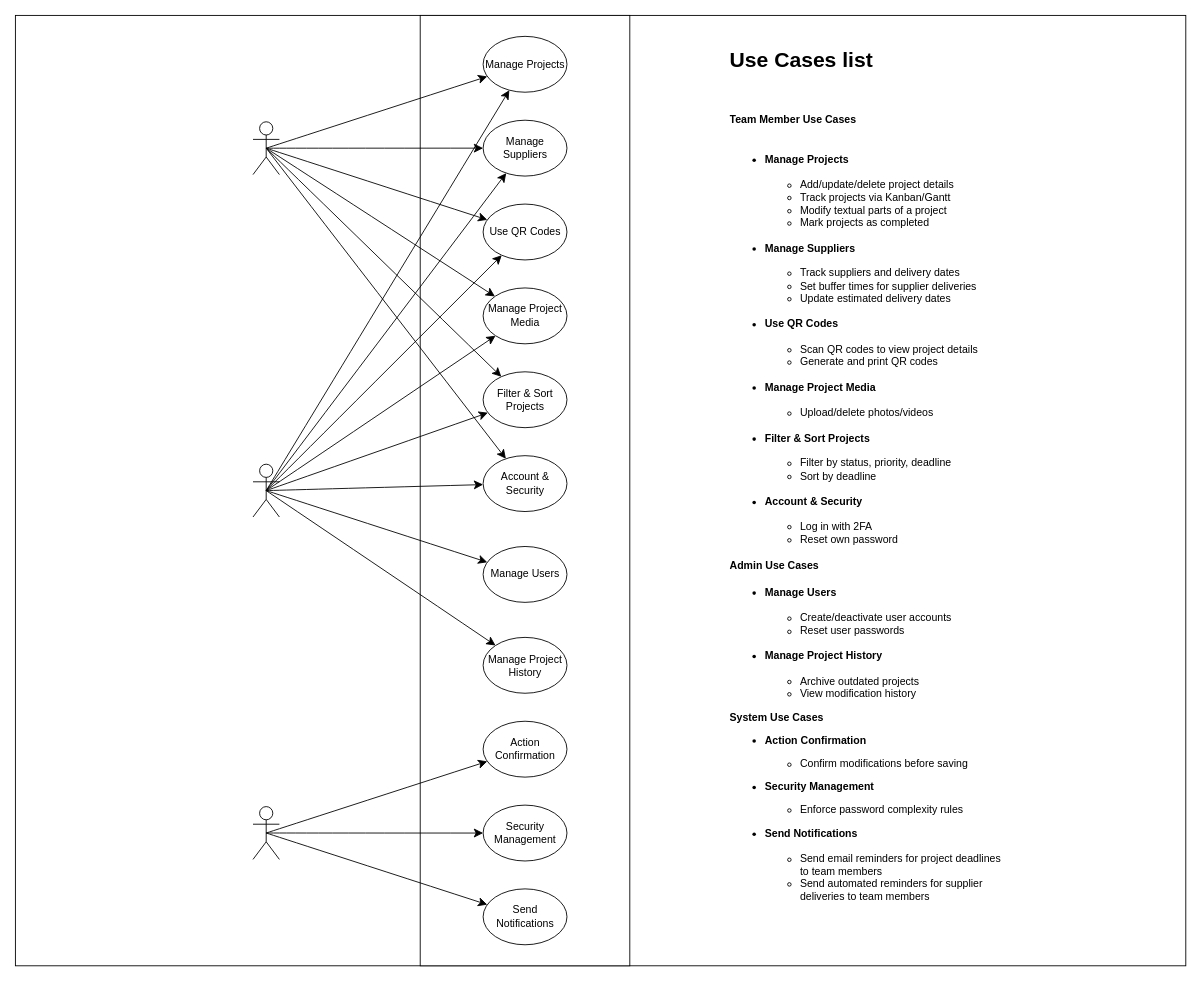
Some shapes in this 1201 by 981 pixel diagram are drawn without their labels. The shapes that lost their labels are listed below. From the top down, each one's box as (x1, y1, x2, y2) in pixels, then its label:
(252, 121, 279, 175): Team Member
(252, 463, 279, 517): Admin
(252, 806, 279, 859): System
